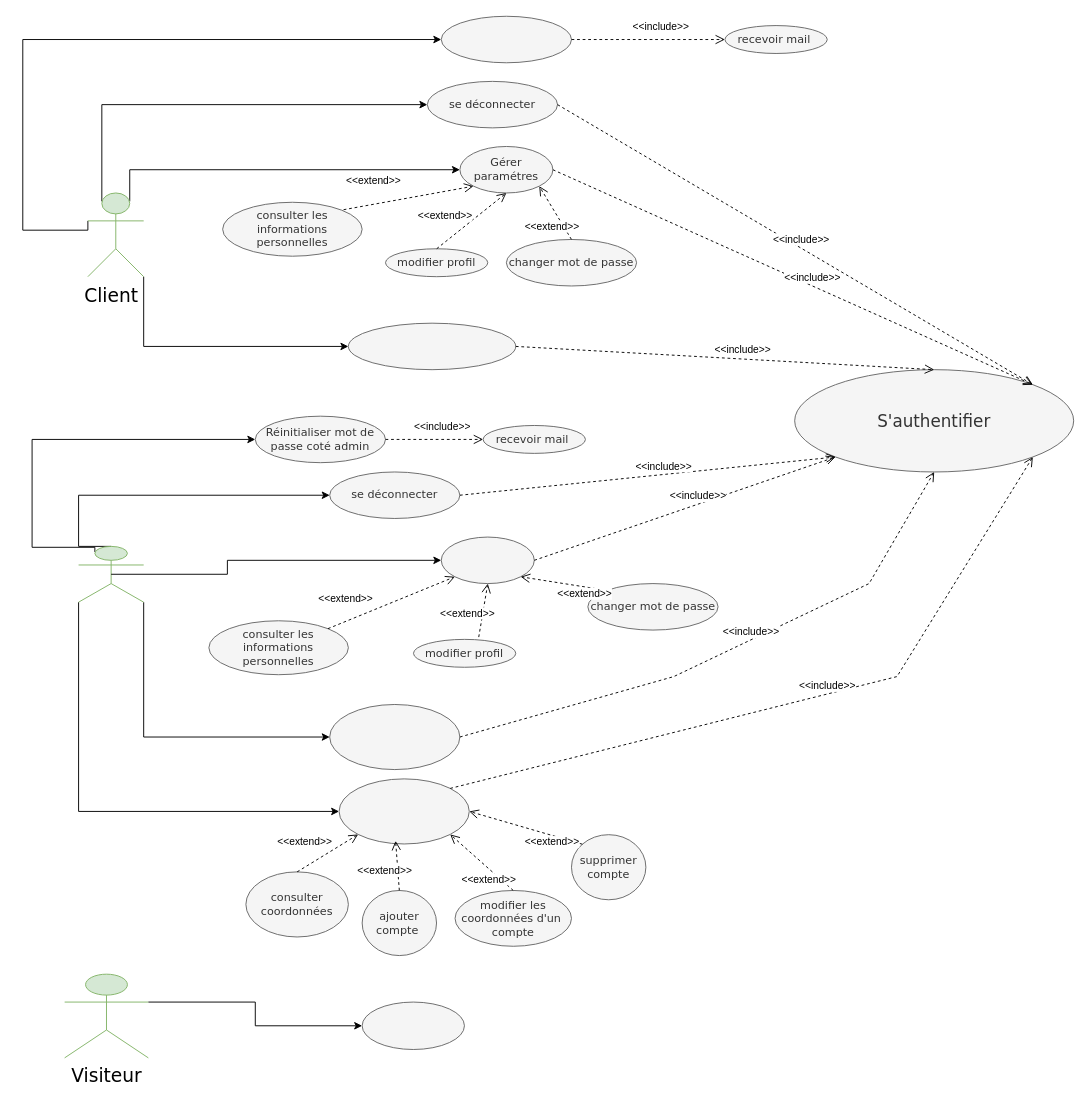
Image size: 1090x1103. Some labels were removed from this diagram. The shapes that lost their labels are listed below. From the top down, each one's centre as x and y in pixels, then its label:
pixel 505 39: Réinitialiser mot de passe
pixel 431 346: gérer notifications
pixel 111 573: Admin
pixel 487 560: Gérer paramétres coté admin
pixel 394 737: Consulter les tableaux de bord
pixel 403 811: Gérer comptes utilisateurs
pixel 412 1025: S'inscrire
